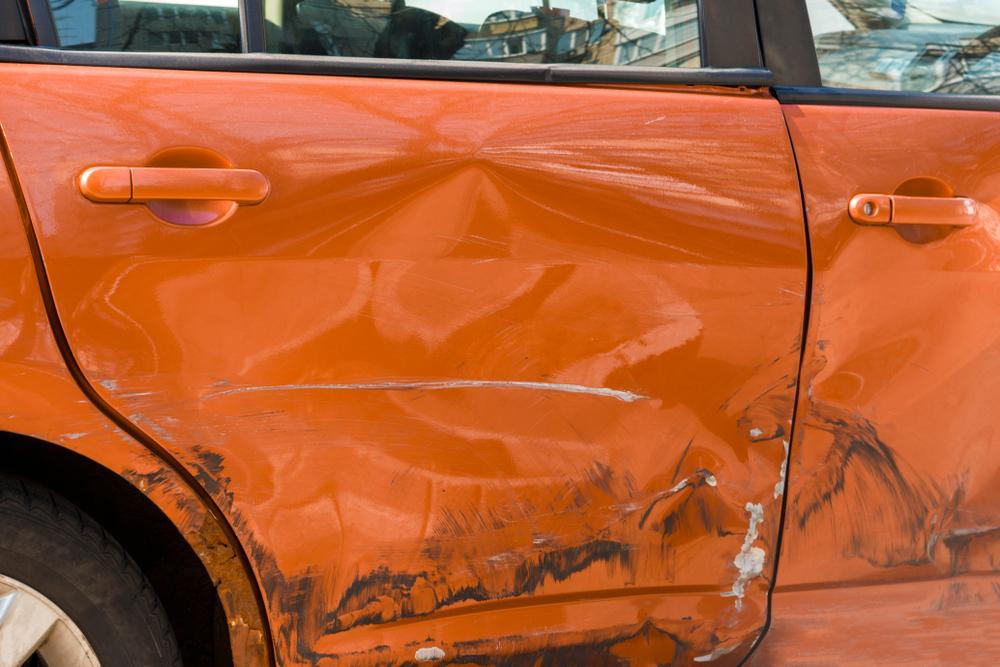dent: (156, 146, 795, 633), (814, 220, 1000, 421)
scratch: (98, 366, 767, 667), (772, 394, 1000, 667), (118, 450, 279, 667)
